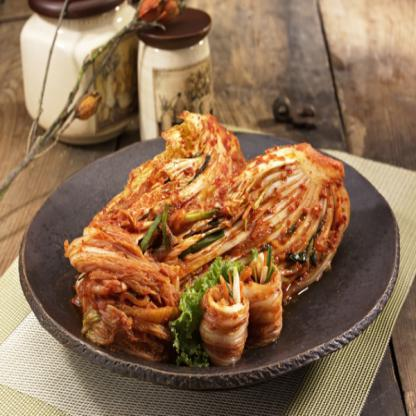kimchi: (158, 142, 360, 332), (80, 98, 244, 246), (52, 216, 180, 364), (178, 233, 296, 367)
